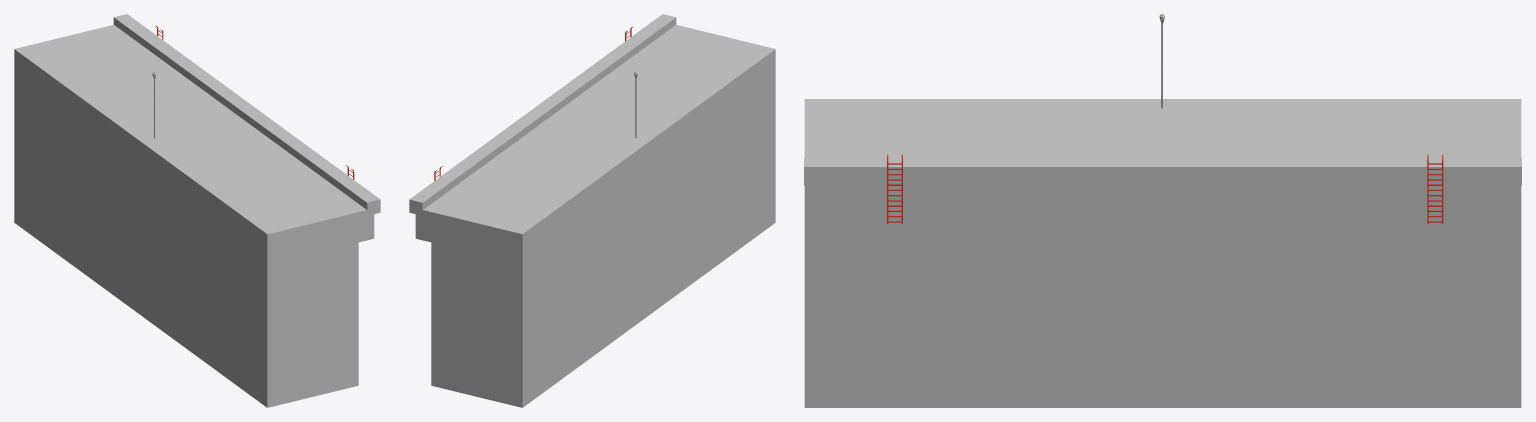
The model's file is dock1.fbx.
3 views of the same model, side by side, from view 1: azimuth 30°, elevation 25°; view 2: azimuth 150°, elevation 25°; view 3: azimuth 270°, elevation 25° (orthographic). The views are drawn at different scales.
Visible parts, largest first — view 1: Cube; view 2: Cube; view 3: Cube, Cube.001.
Boxes of the visible parts, x1,y1,x2,y2 form: Cube: (14,14,380,407); Cube: (409,14,775,407); Cube: (804,99,1521,407); Cube.001: (887,154,1443,223).
Bounding box in the file's own units: 1470 × 2902 × 5555.
